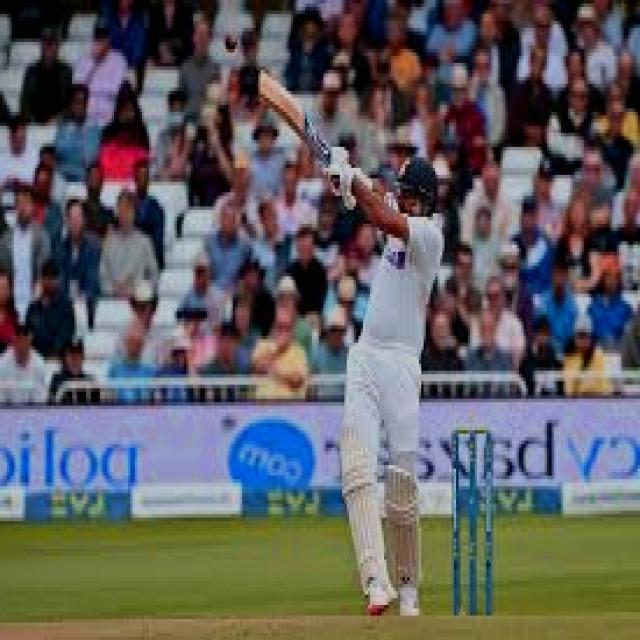toe: (256, 64, 268, 104)
